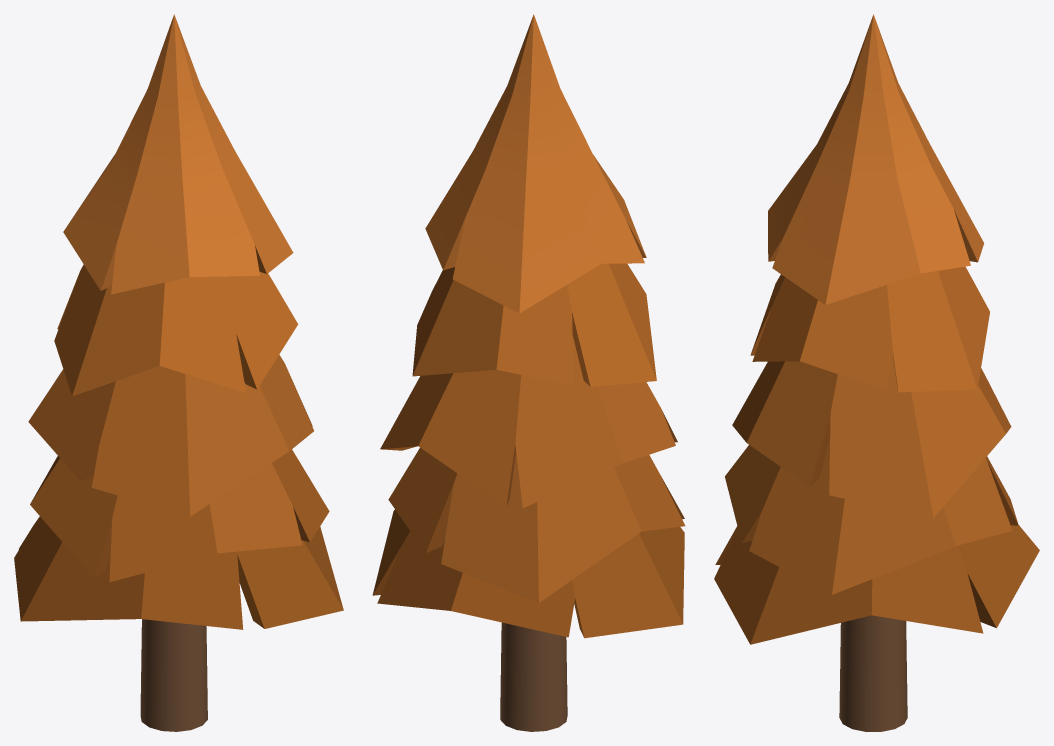
The model's file is Spruce_Orange_Thin_3.fbx.
The picture shows the model from 3 angles, left to right: view 1: azimuth 30°, elevation 25°; view 2: azimuth 150°, elevation 25°; view 3: azimuth 270°, elevation 25°; orthographic projection.
Visible parts, largest first — view 1: Cylinder.418, Cylinder.419, Cylinder.420, Cylinder.422, Cylinder.421, Cylinder.423; view 2: Cylinder.418, Cylinder.419, Cylinder.421, Cylinder.420, Cylinder.422, Cylinder.423; view 3: Cylinder.418, Cylinder.419, Cylinder.421, Cylinder.420, Cylinder.422, Cylinder.423.
Part boxes in pixels (x1=…): Cylinder.418: x1=63, y1=14, x2=293, y2=294; Cylinder.419: x1=28, y1=354, x2=313, y2=516; Cylinder.420: x1=54, y1=264, x2=298, y2=396; Cylinder.422: x1=14, y1=516, x2=343, y2=629; Cylinder.421: x1=30, y1=449, x2=329, y2=582; Cylinder.423: x1=140, y1=619, x2=207, y2=731; Cylinder.418: x1=425, y1=14, x2=646, y2=313; Cylinder.419: x1=380, y1=336, x2=677, y2=508; Cylinder.421: x1=388, y1=447, x2=685, y2=602; Cylinder.420: x1=412, y1=263, x2=656, y2=386; Cylinder.422: x1=372, y1=509, x2=684, y2=638; Cylinder.423: x1=500, y1=622, x2=567, y2=731; Cylinder.418: x1=768, y1=14, x2=984, y2=304; Cylinder.419: x1=732, y1=355, x2=1011, y2=518; Cylinder.421: x1=725, y1=440, x2=1018, y2=594; Cylinder.420: x1=750, y1=266, x2=989, y2=392; Cylinder.422: x1=714, y1=525, x2=1039, y2=644; Cylinder.423: x1=839, y1=615, x2=907, y2=731.
Bounding box in the file's own units: 247 × 567 × 238.
